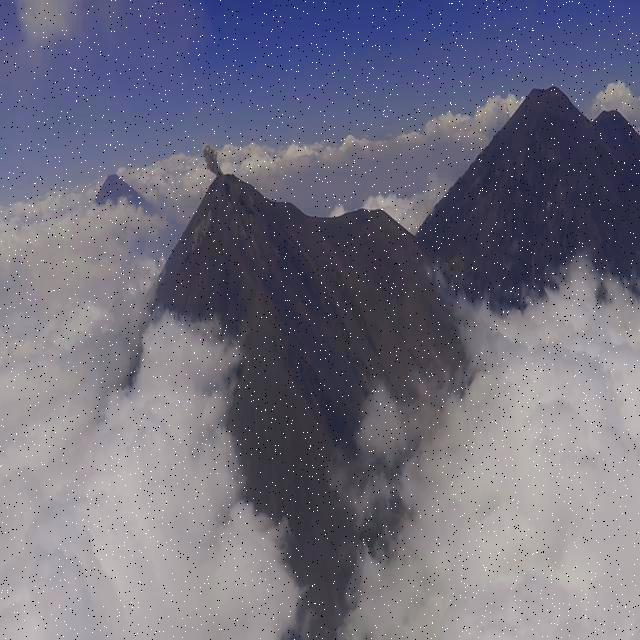Plume: (201, 141, 221, 176)
Summit: (174, 171, 305, 256)
